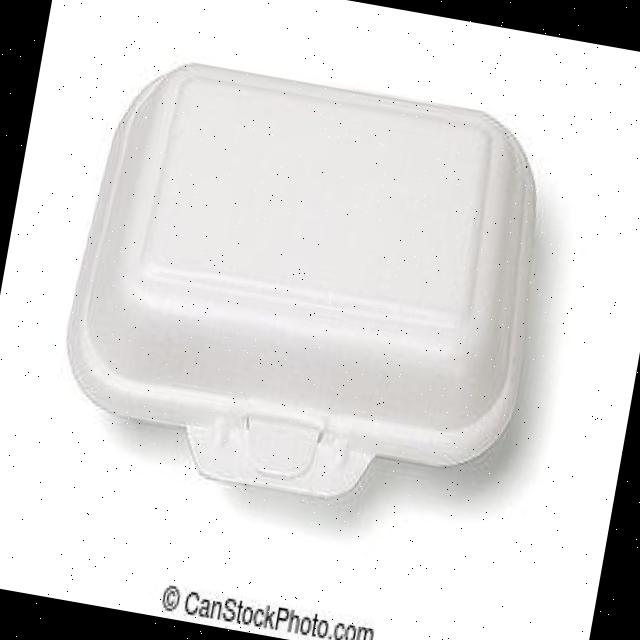styrofoam: (42, 40, 566, 532)
